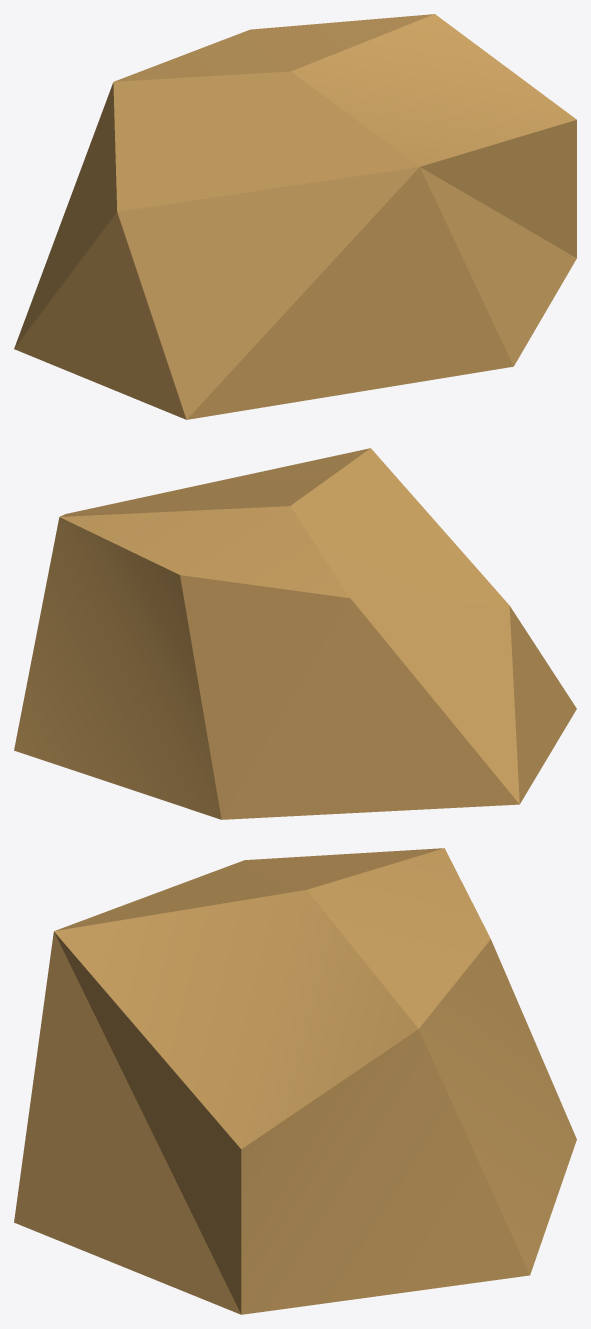
The model's file is Stone_Meidum_DIrt.fbx.
3 views of the same model, one above another, from view 1: azimuth 30°, elevation 25°; view 2: azimuth 150°, elevation 25°; view 3: azimuth 270°, elevation 25° (orthographic). The views are drawn at different scales.
Visible parts, largest first — view 1: Stone_dirt_Medium; view 2: Stone_dirt_Medium; view 3: Stone_dirt_Medium.
Part boxes in pixels (<box>): Stone_dirt_Medium: <box>14,14,576,419</box>; Stone_dirt_Medium: <box>14,448,576,819</box>; Stone_dirt_Medium: <box>14,848,576,1314</box>.
Bounding box in the file's own units: 1.88 × 1.01 × 1.49.
